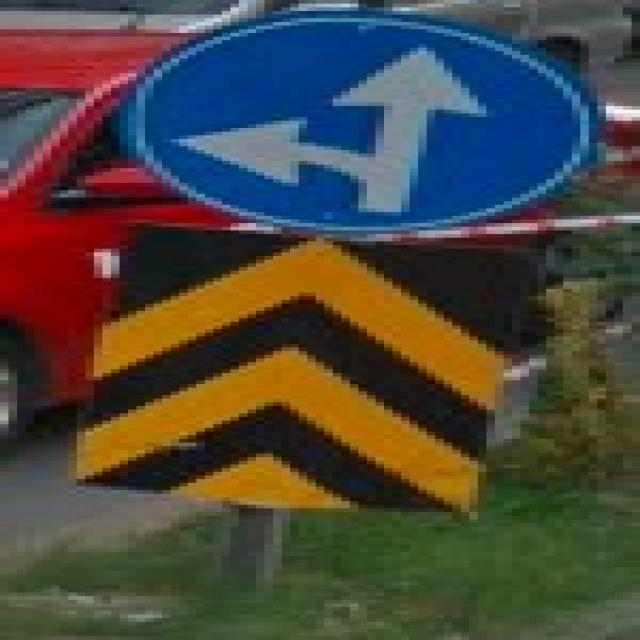Straight or Left: (129, 18, 590, 234)
